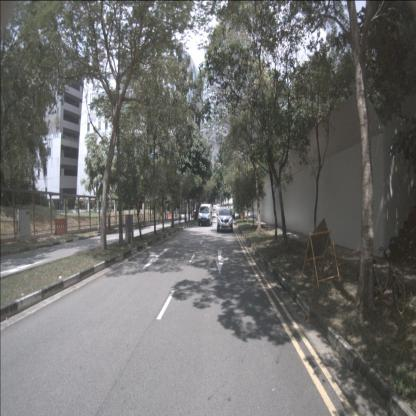movable_object-barrier: (54, 218, 68, 235)
vehicle-bicycle: (357, 246, 406, 317)
vehicle-car: (217, 208, 233, 232), (198, 203, 212, 226), (227, 208, 235, 220), (192, 209, 197, 218)
